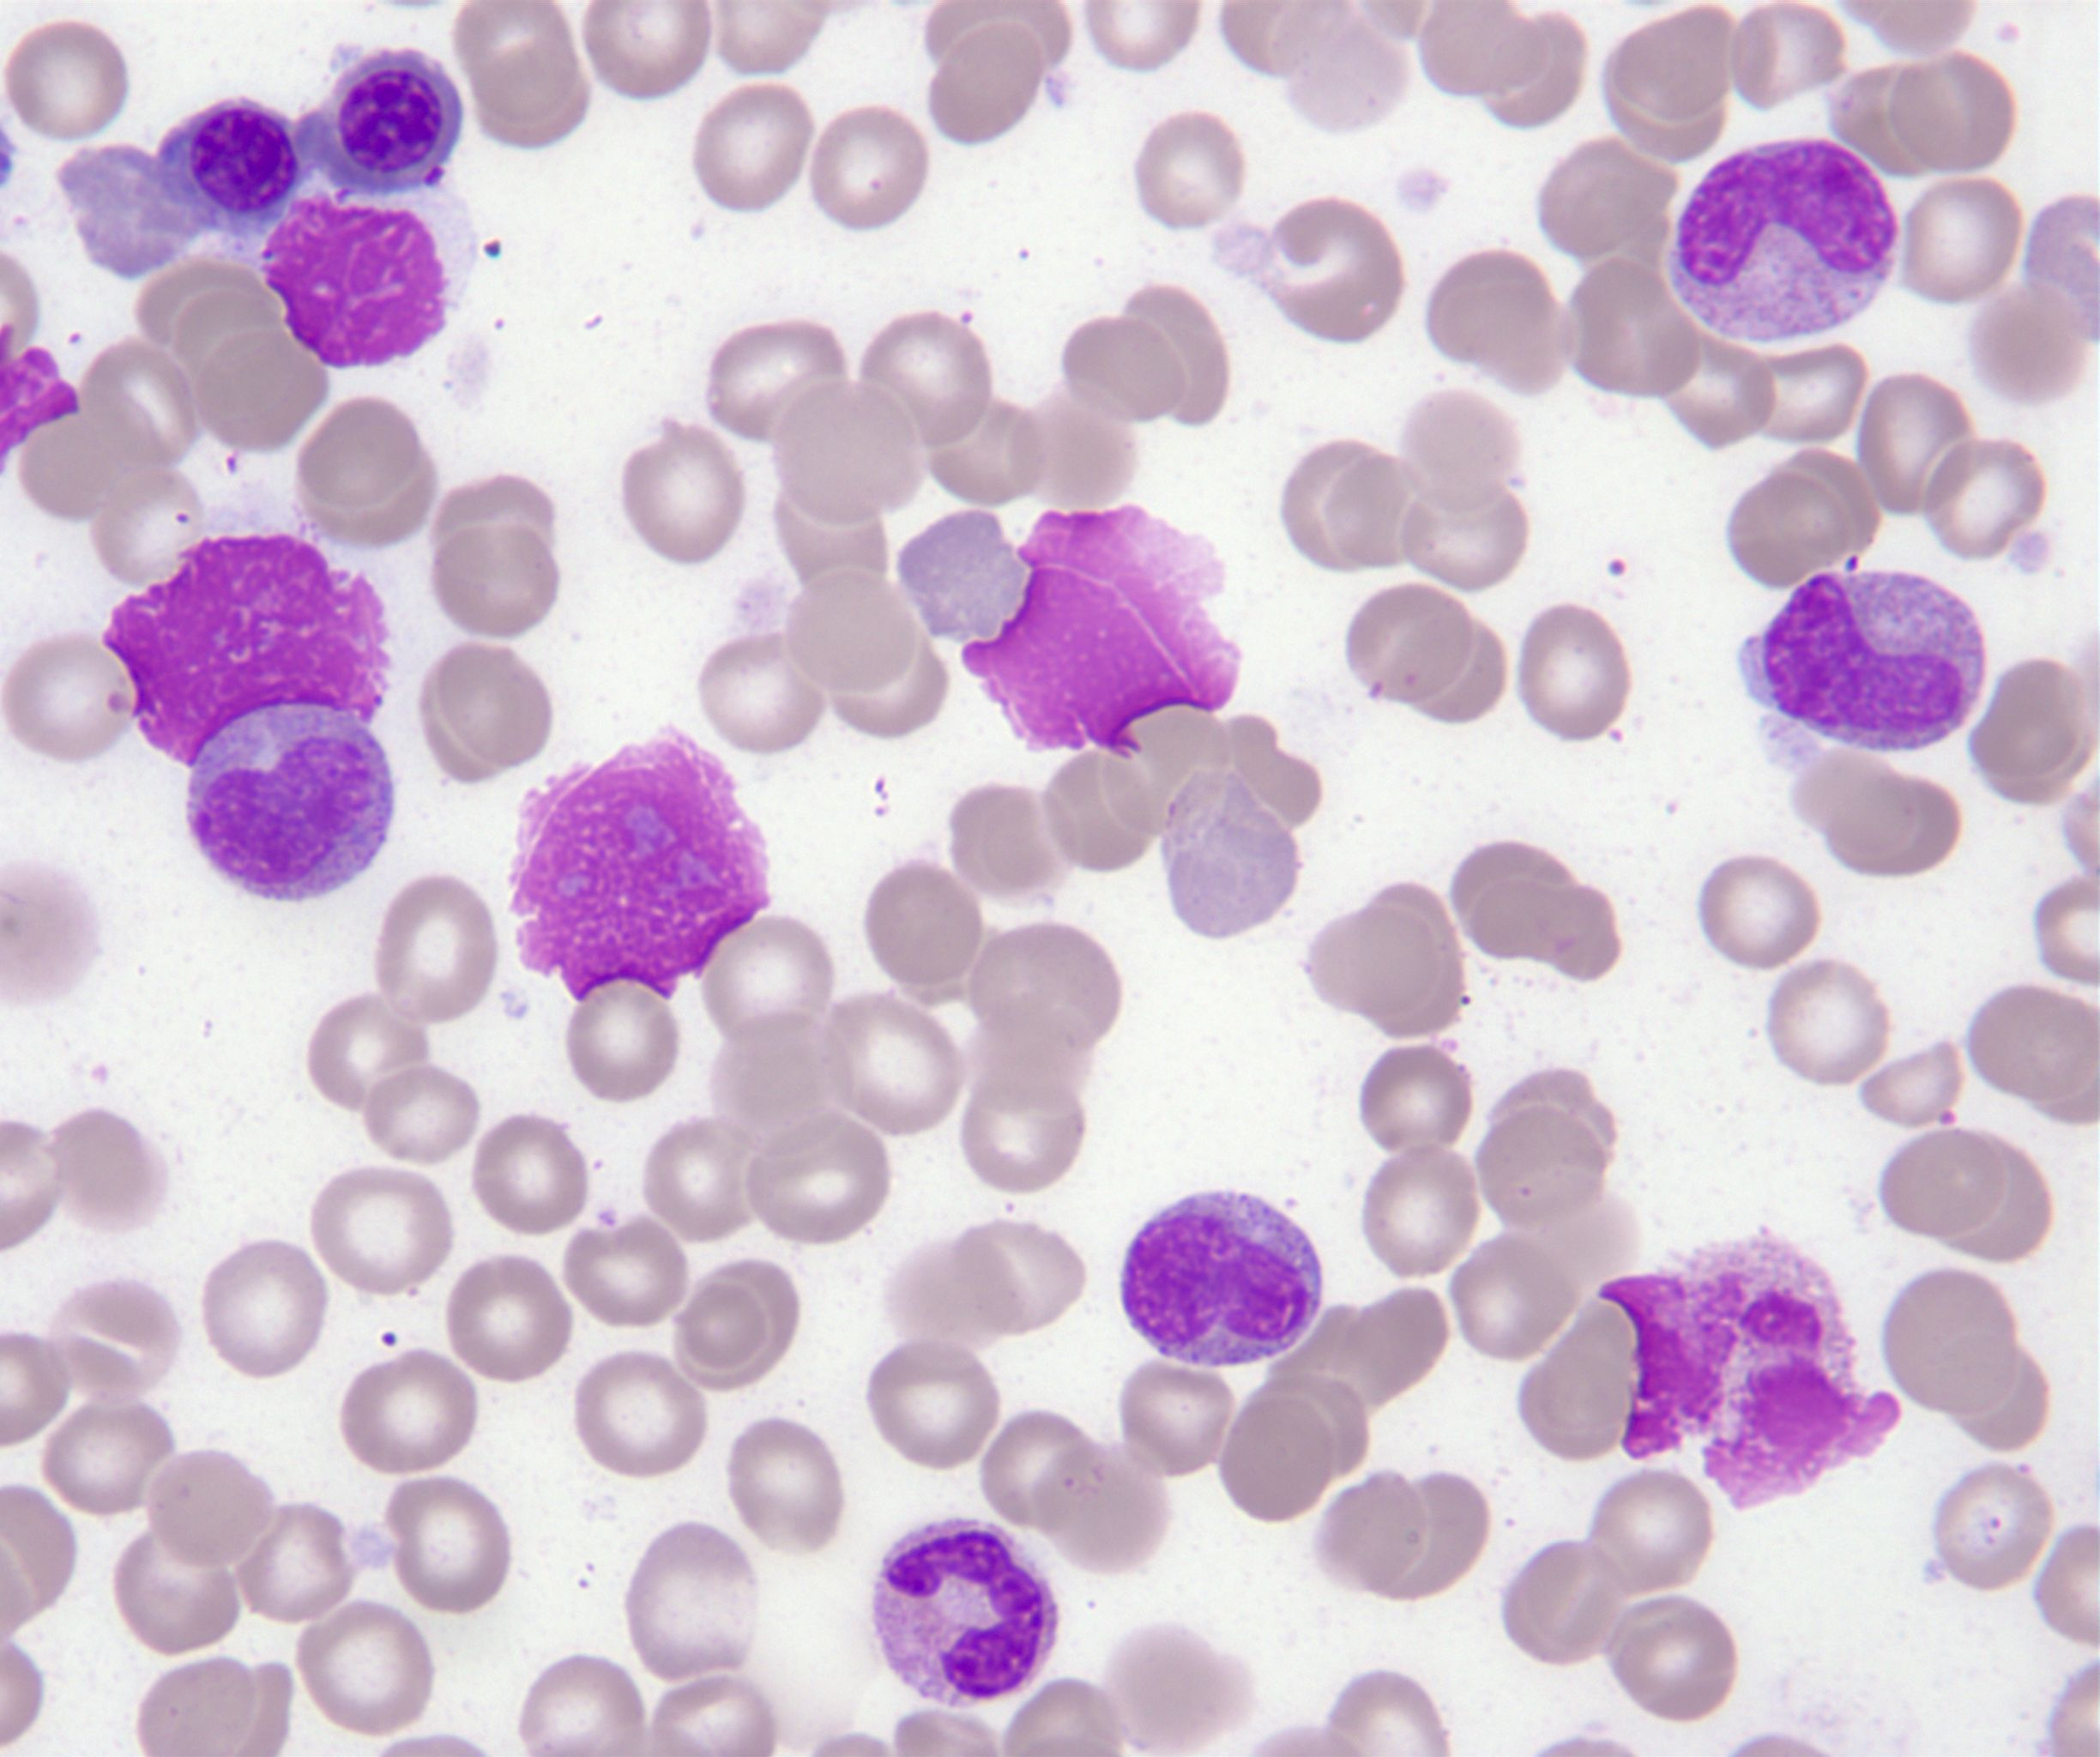24: (58, 98, 302, 277), (297, 45, 462, 194)
4: (1666, 138, 1894, 342), (1739, 569, 1980, 754), (187, 705, 394, 897), (1118, 1193, 1319, 1364)
5: (877, 1516, 1059, 1705)
x: (1598, 1237, 1896, 1509), (965, 508, 1240, 755), (101, 532, 387, 764), (513, 738, 771, 995), (262, 199, 445, 370)
